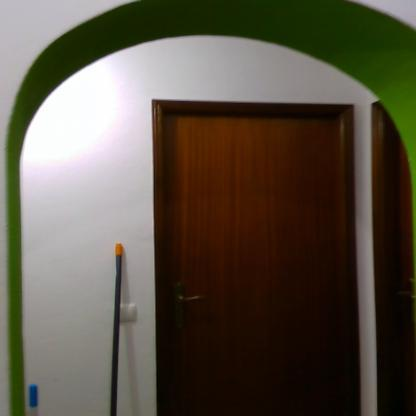door: (166, 112, 346, 416)
lever: (177, 295, 210, 304)
